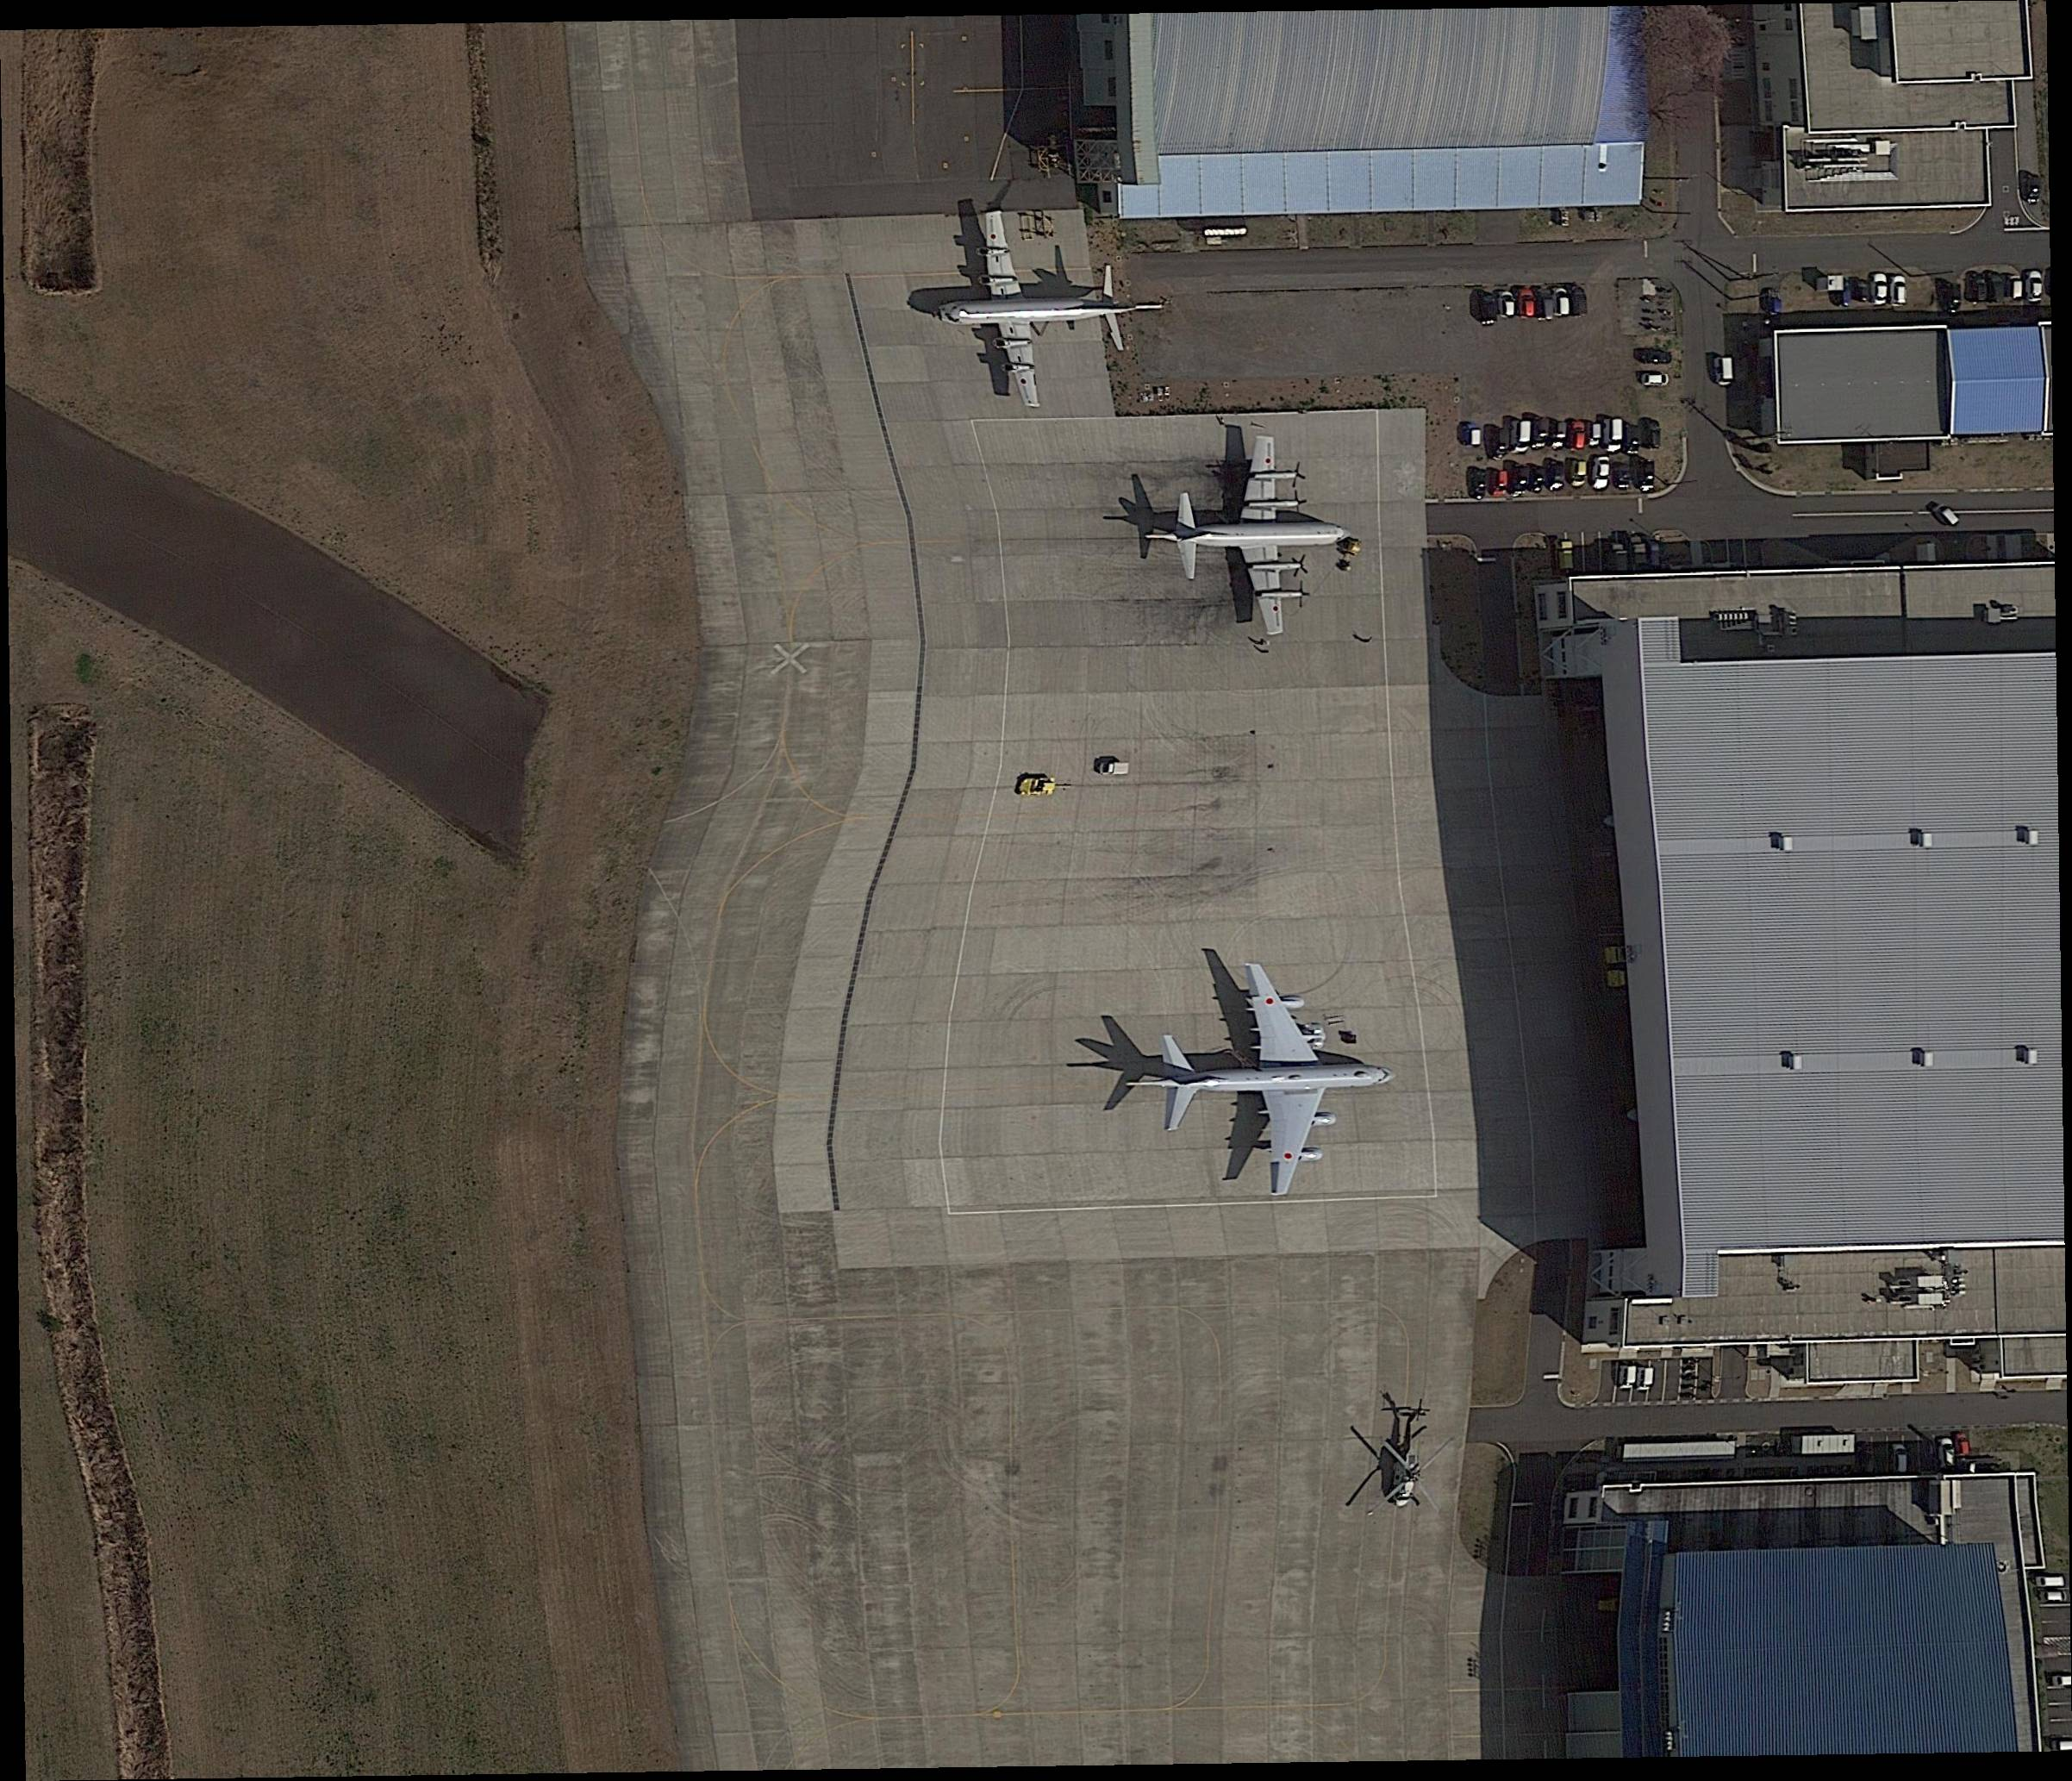helicopter: (1371, 1408, 1443, 1515)
plane: (1154, 964, 1395, 1201), (909, 203, 1182, 412), (1173, 440, 1355, 636)
